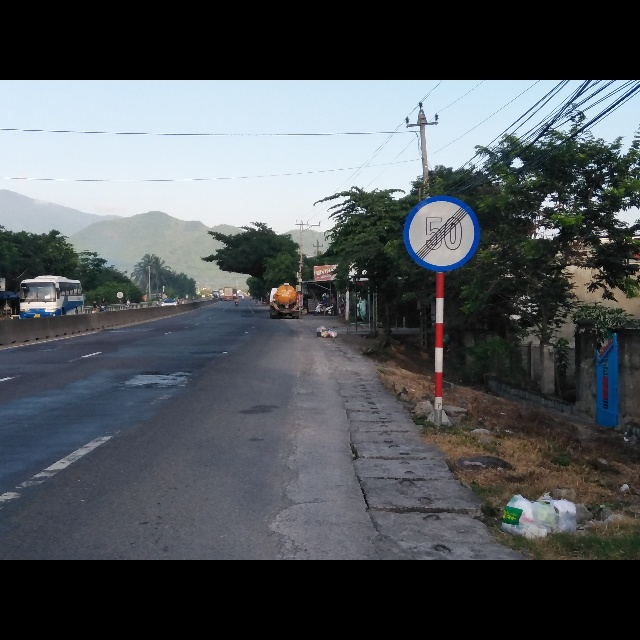Hết hạn chế tốc độ tối đa 50km/h: (400, 194, 479, 273)
